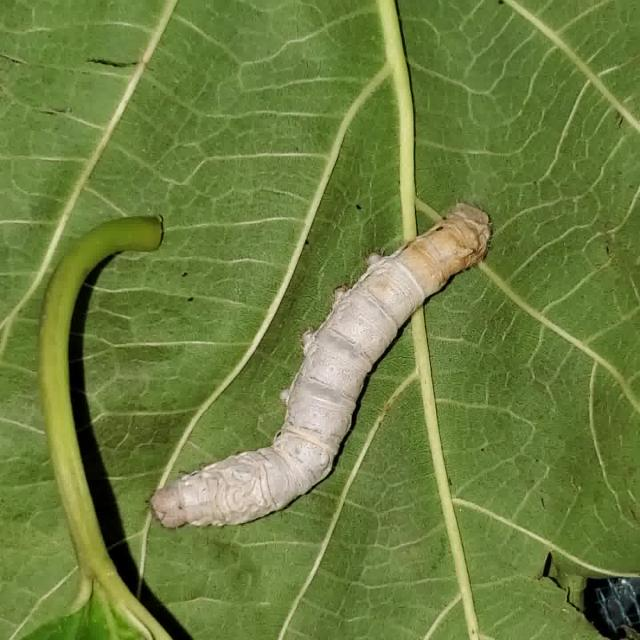Grasserie: (119, 187, 577, 587)
